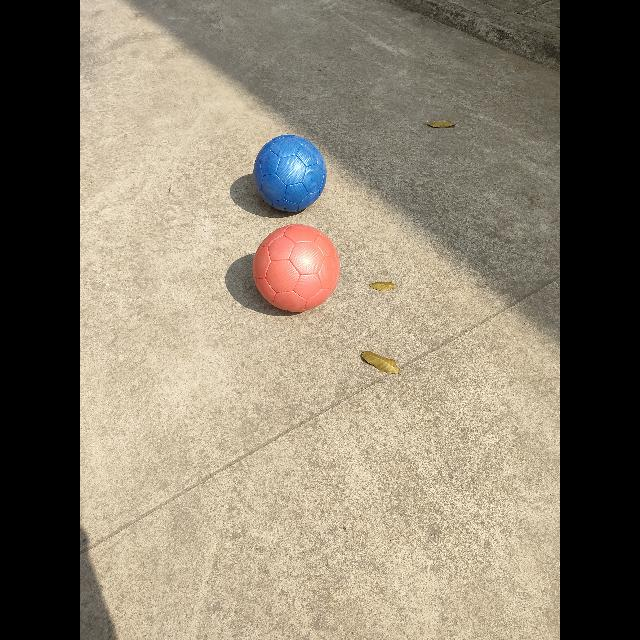B: (253, 134, 328, 216)
R: (252, 224, 341, 316)
